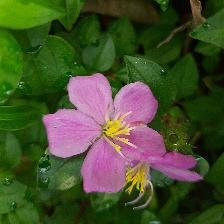malabar melastome: (40, 73, 172, 198)
